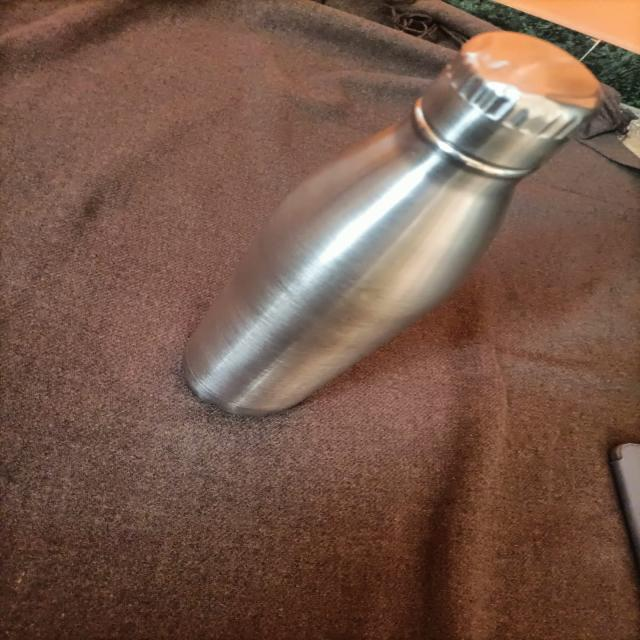bottle: (166, 41, 599, 449)
